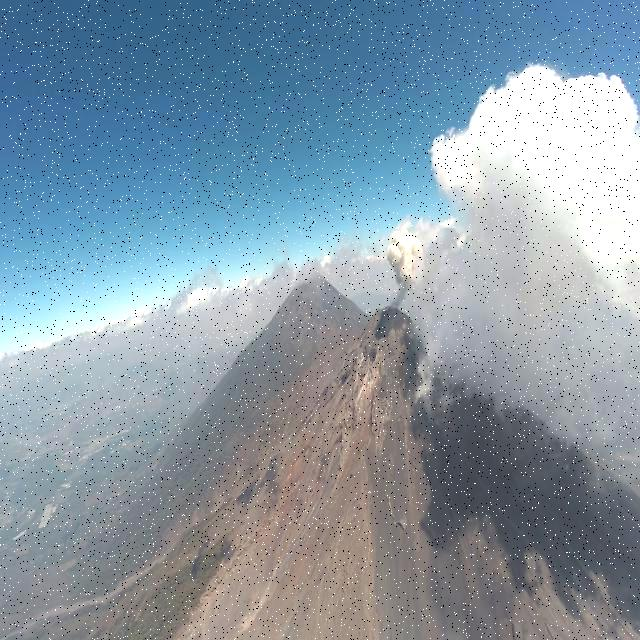Plume: (384, 220, 422, 305)
Summit: (331, 301, 432, 407)
